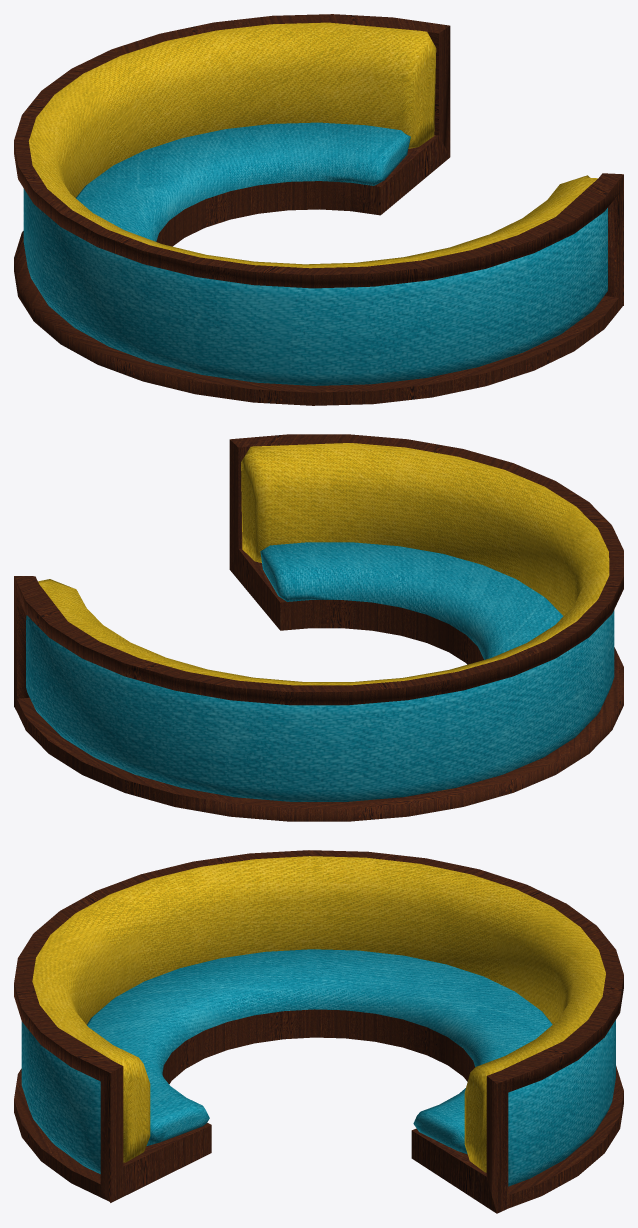
Rendered from couchFix.fbx.
The picture shows the model from 3 angles, top to bottom: view 1: azimuth 30°, elevation 25°; view 2: azimuth 150°, elevation 25°; view 3: azimuth 270°, elevation 25°; orthographic projection.
Parts seen in each view (by area): view 1: circle_couch; view 2: circle_couch; view 3: circle_couch.
Boxes of the visible parts, x1,y1,x2,y2 form: circle_couch: (14,14,623,405); circle_couch: (14,434,623,821); circle_couch: (14,850,623,1213).
Size of the model in its own units: 364 by 94.35 by 401.
3 materials, 3 textured.
